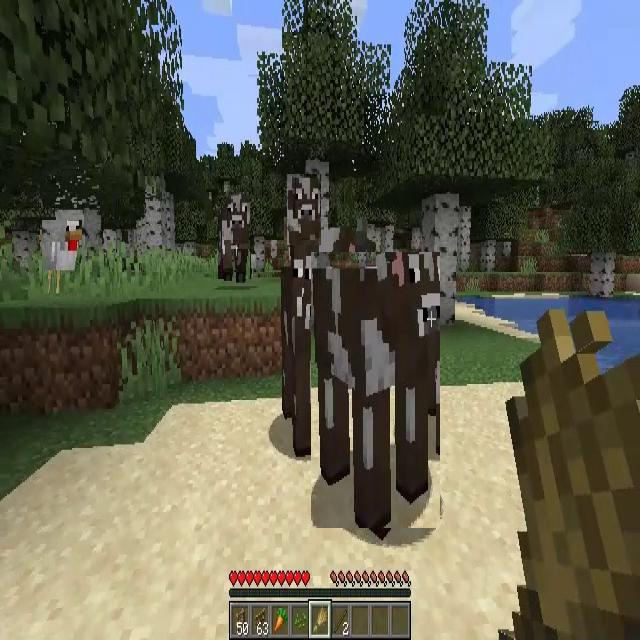cow: (311, 252, 440, 528), (218, 192, 250, 279), (288, 174, 322, 245)
duck: (42, 220, 82, 294)
